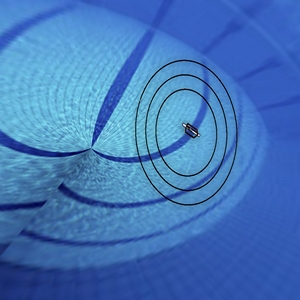circle: (123, 46, 246, 217)
submarine: (177, 115, 206, 149)
